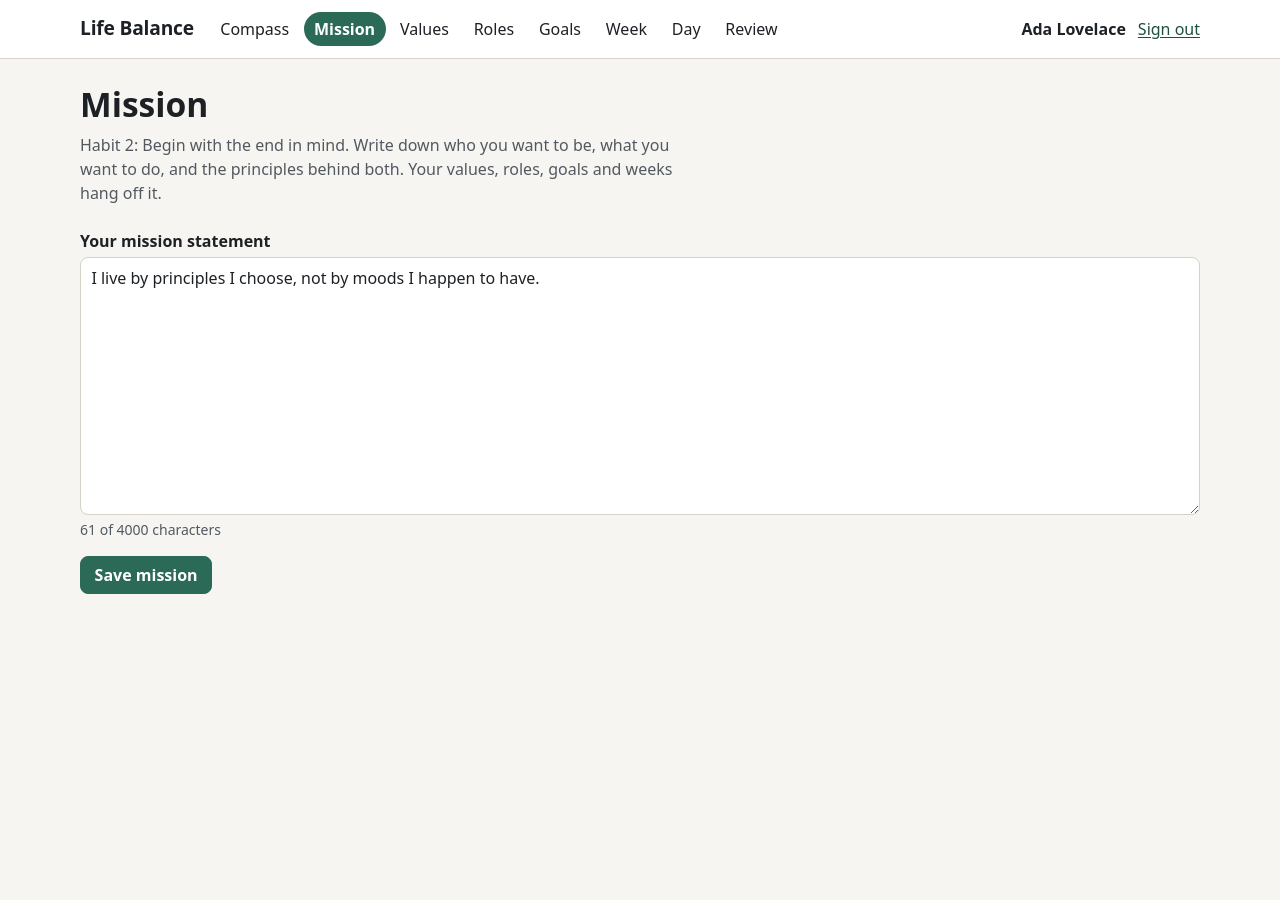
Test: counts the characters while typing and saves the mission
The image size is (1280, 900).
Replace the text in the text box labelled "Your mission statement" with "Be kind.". click: (640, 386)
box: x1=80 y1=257 x2=1200 y2=515
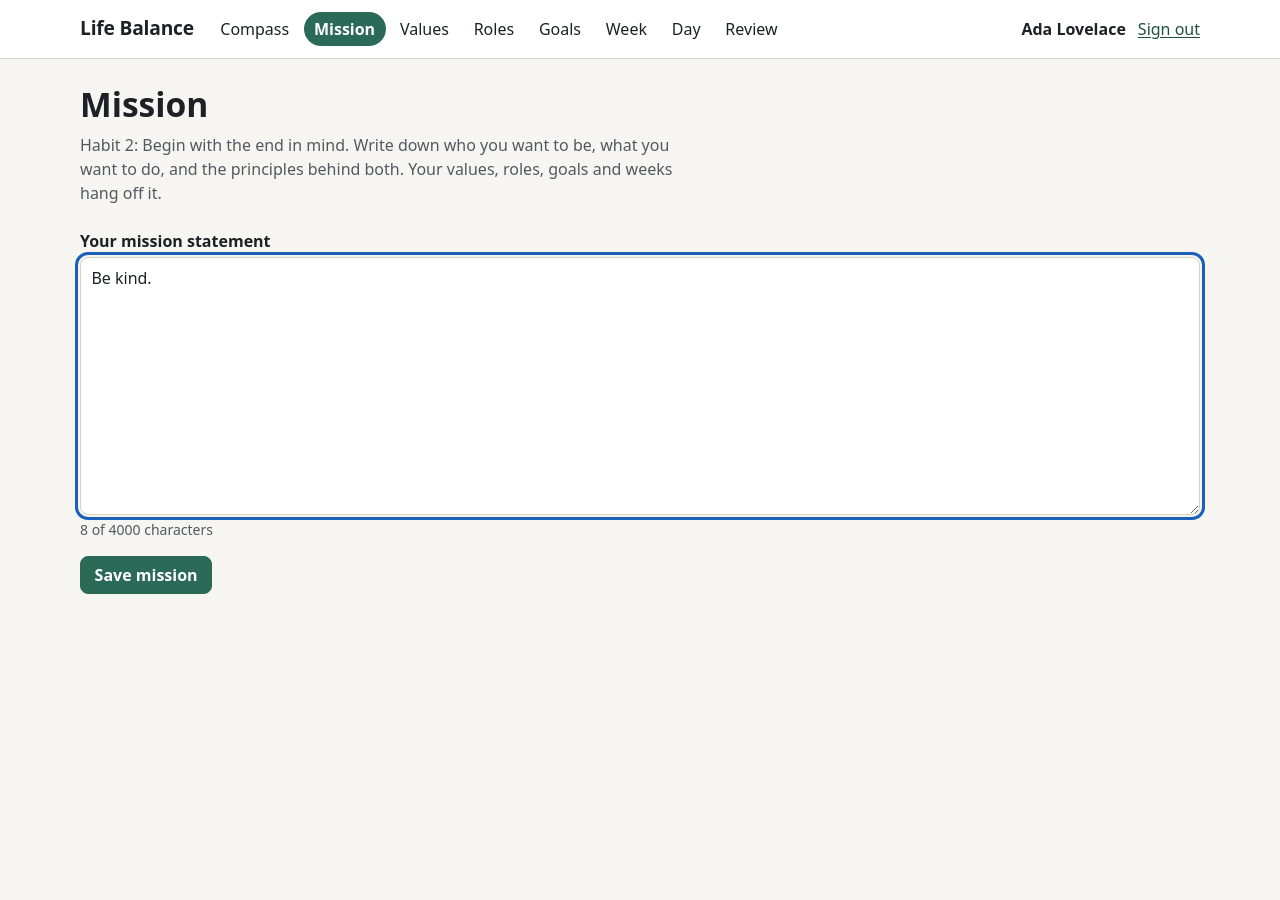
Click the button "Save mission". click: (146, 575)
box: x1=80 y1=556 x2=212 y2=594
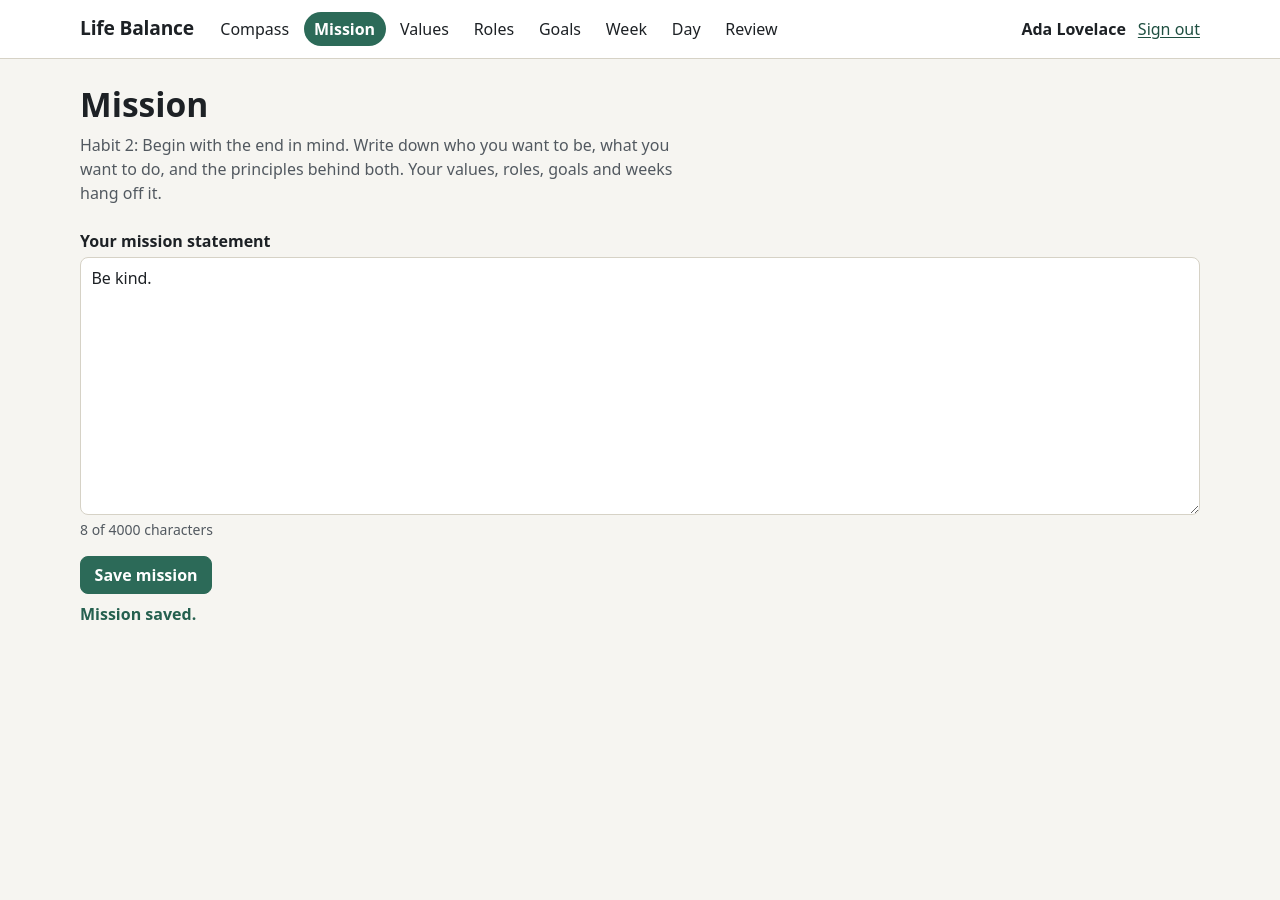
Expected: the text "Mission saved." is shown, x1=80 y1=603 x2=196 y2=625
